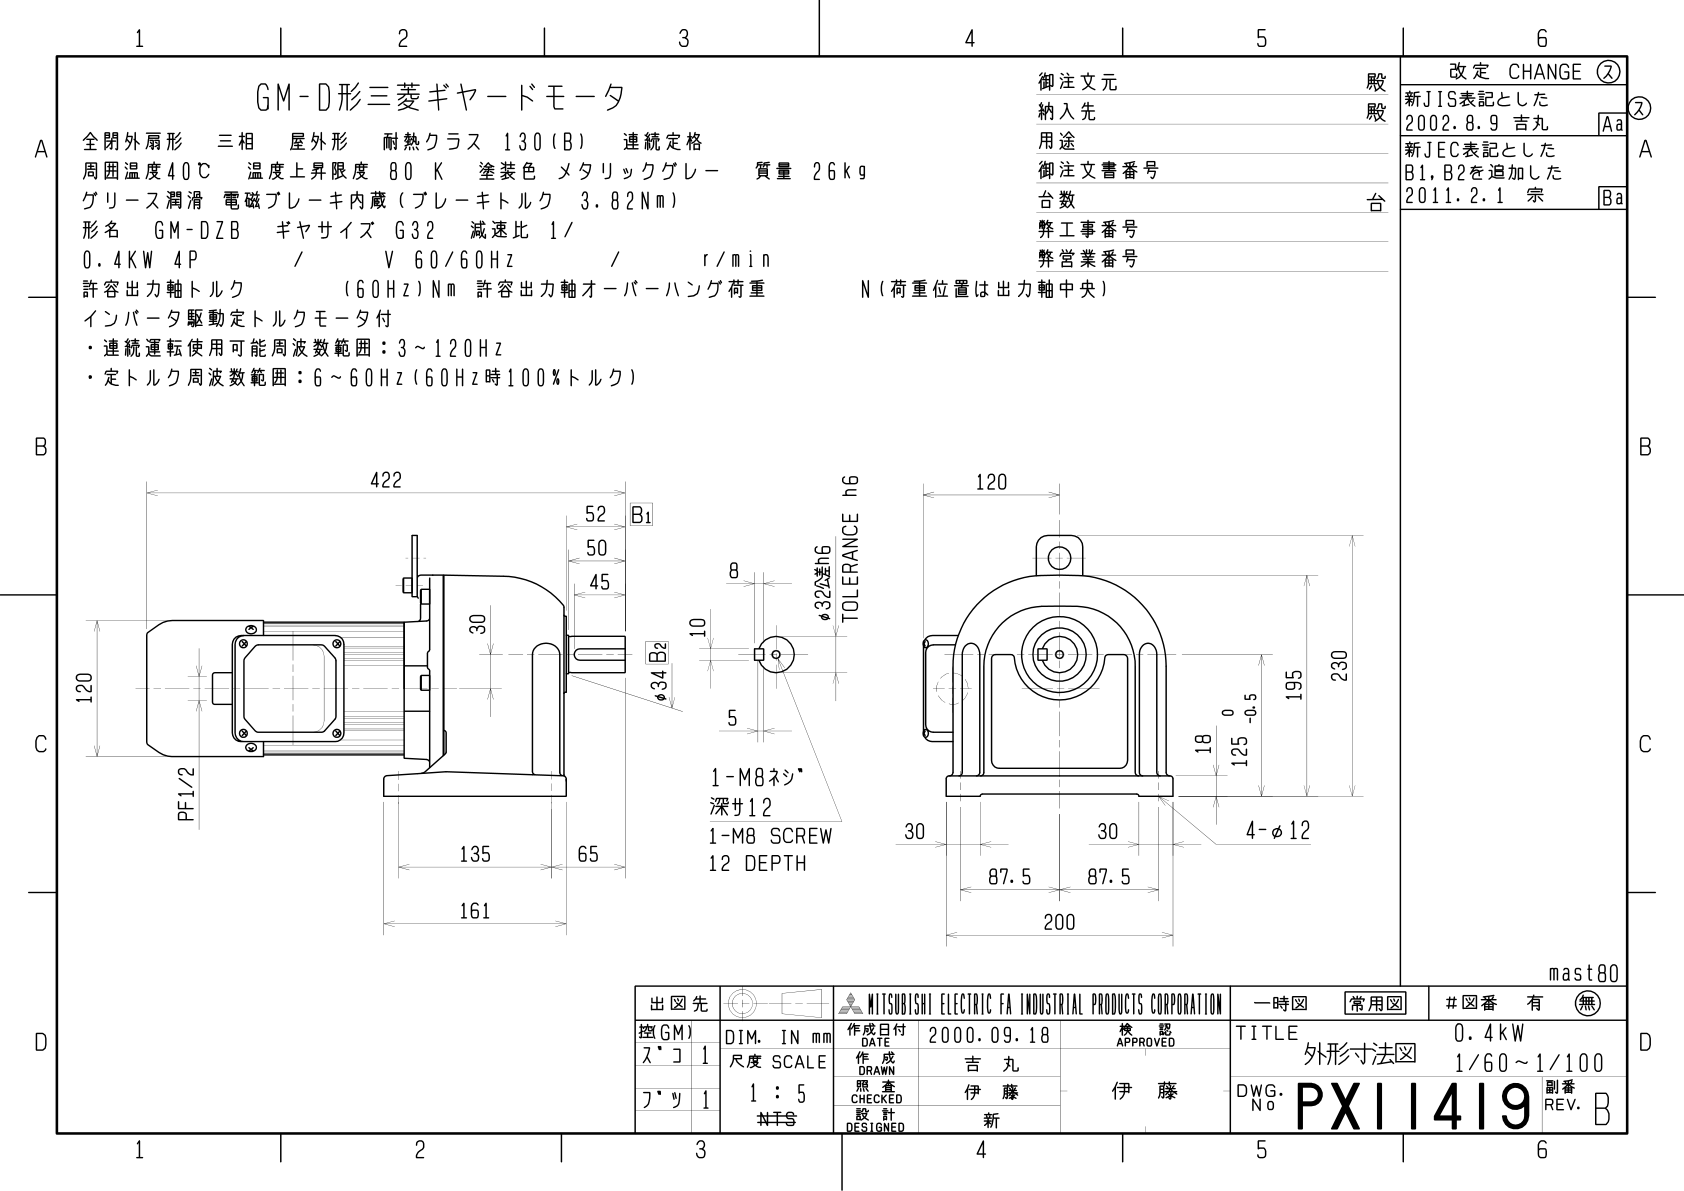GM_D_インバータ屋外_三相_脚: (64, 418, 1371, 963)
